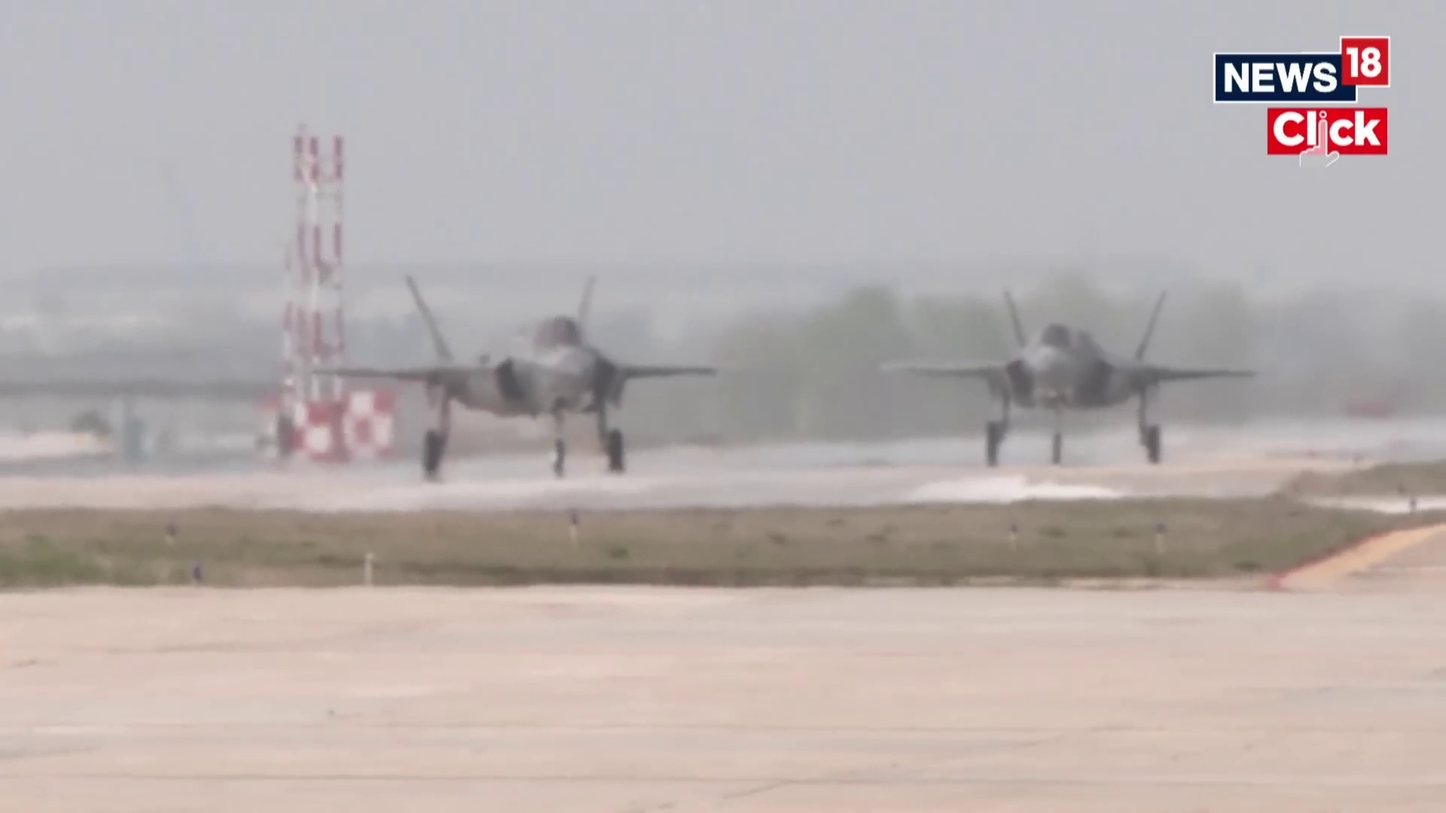F35: (313, 274, 722, 475), (880, 285, 1251, 464)
